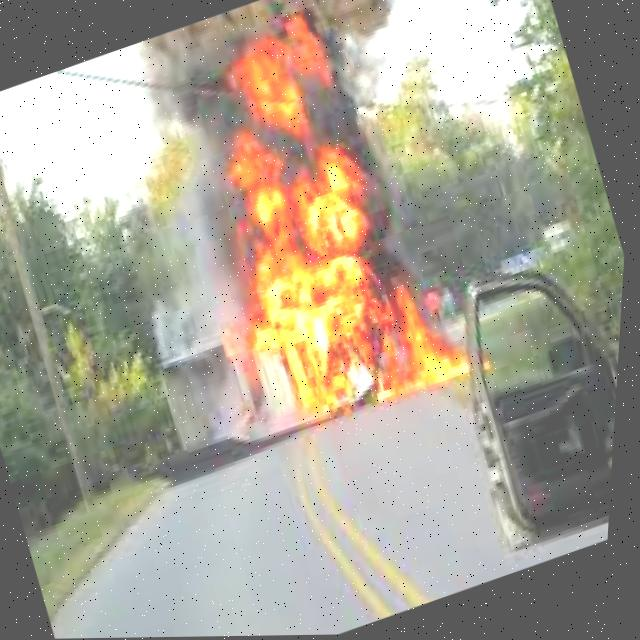Fire: (203, 98, 486, 430)
Smoke: (110, 0, 435, 254)
